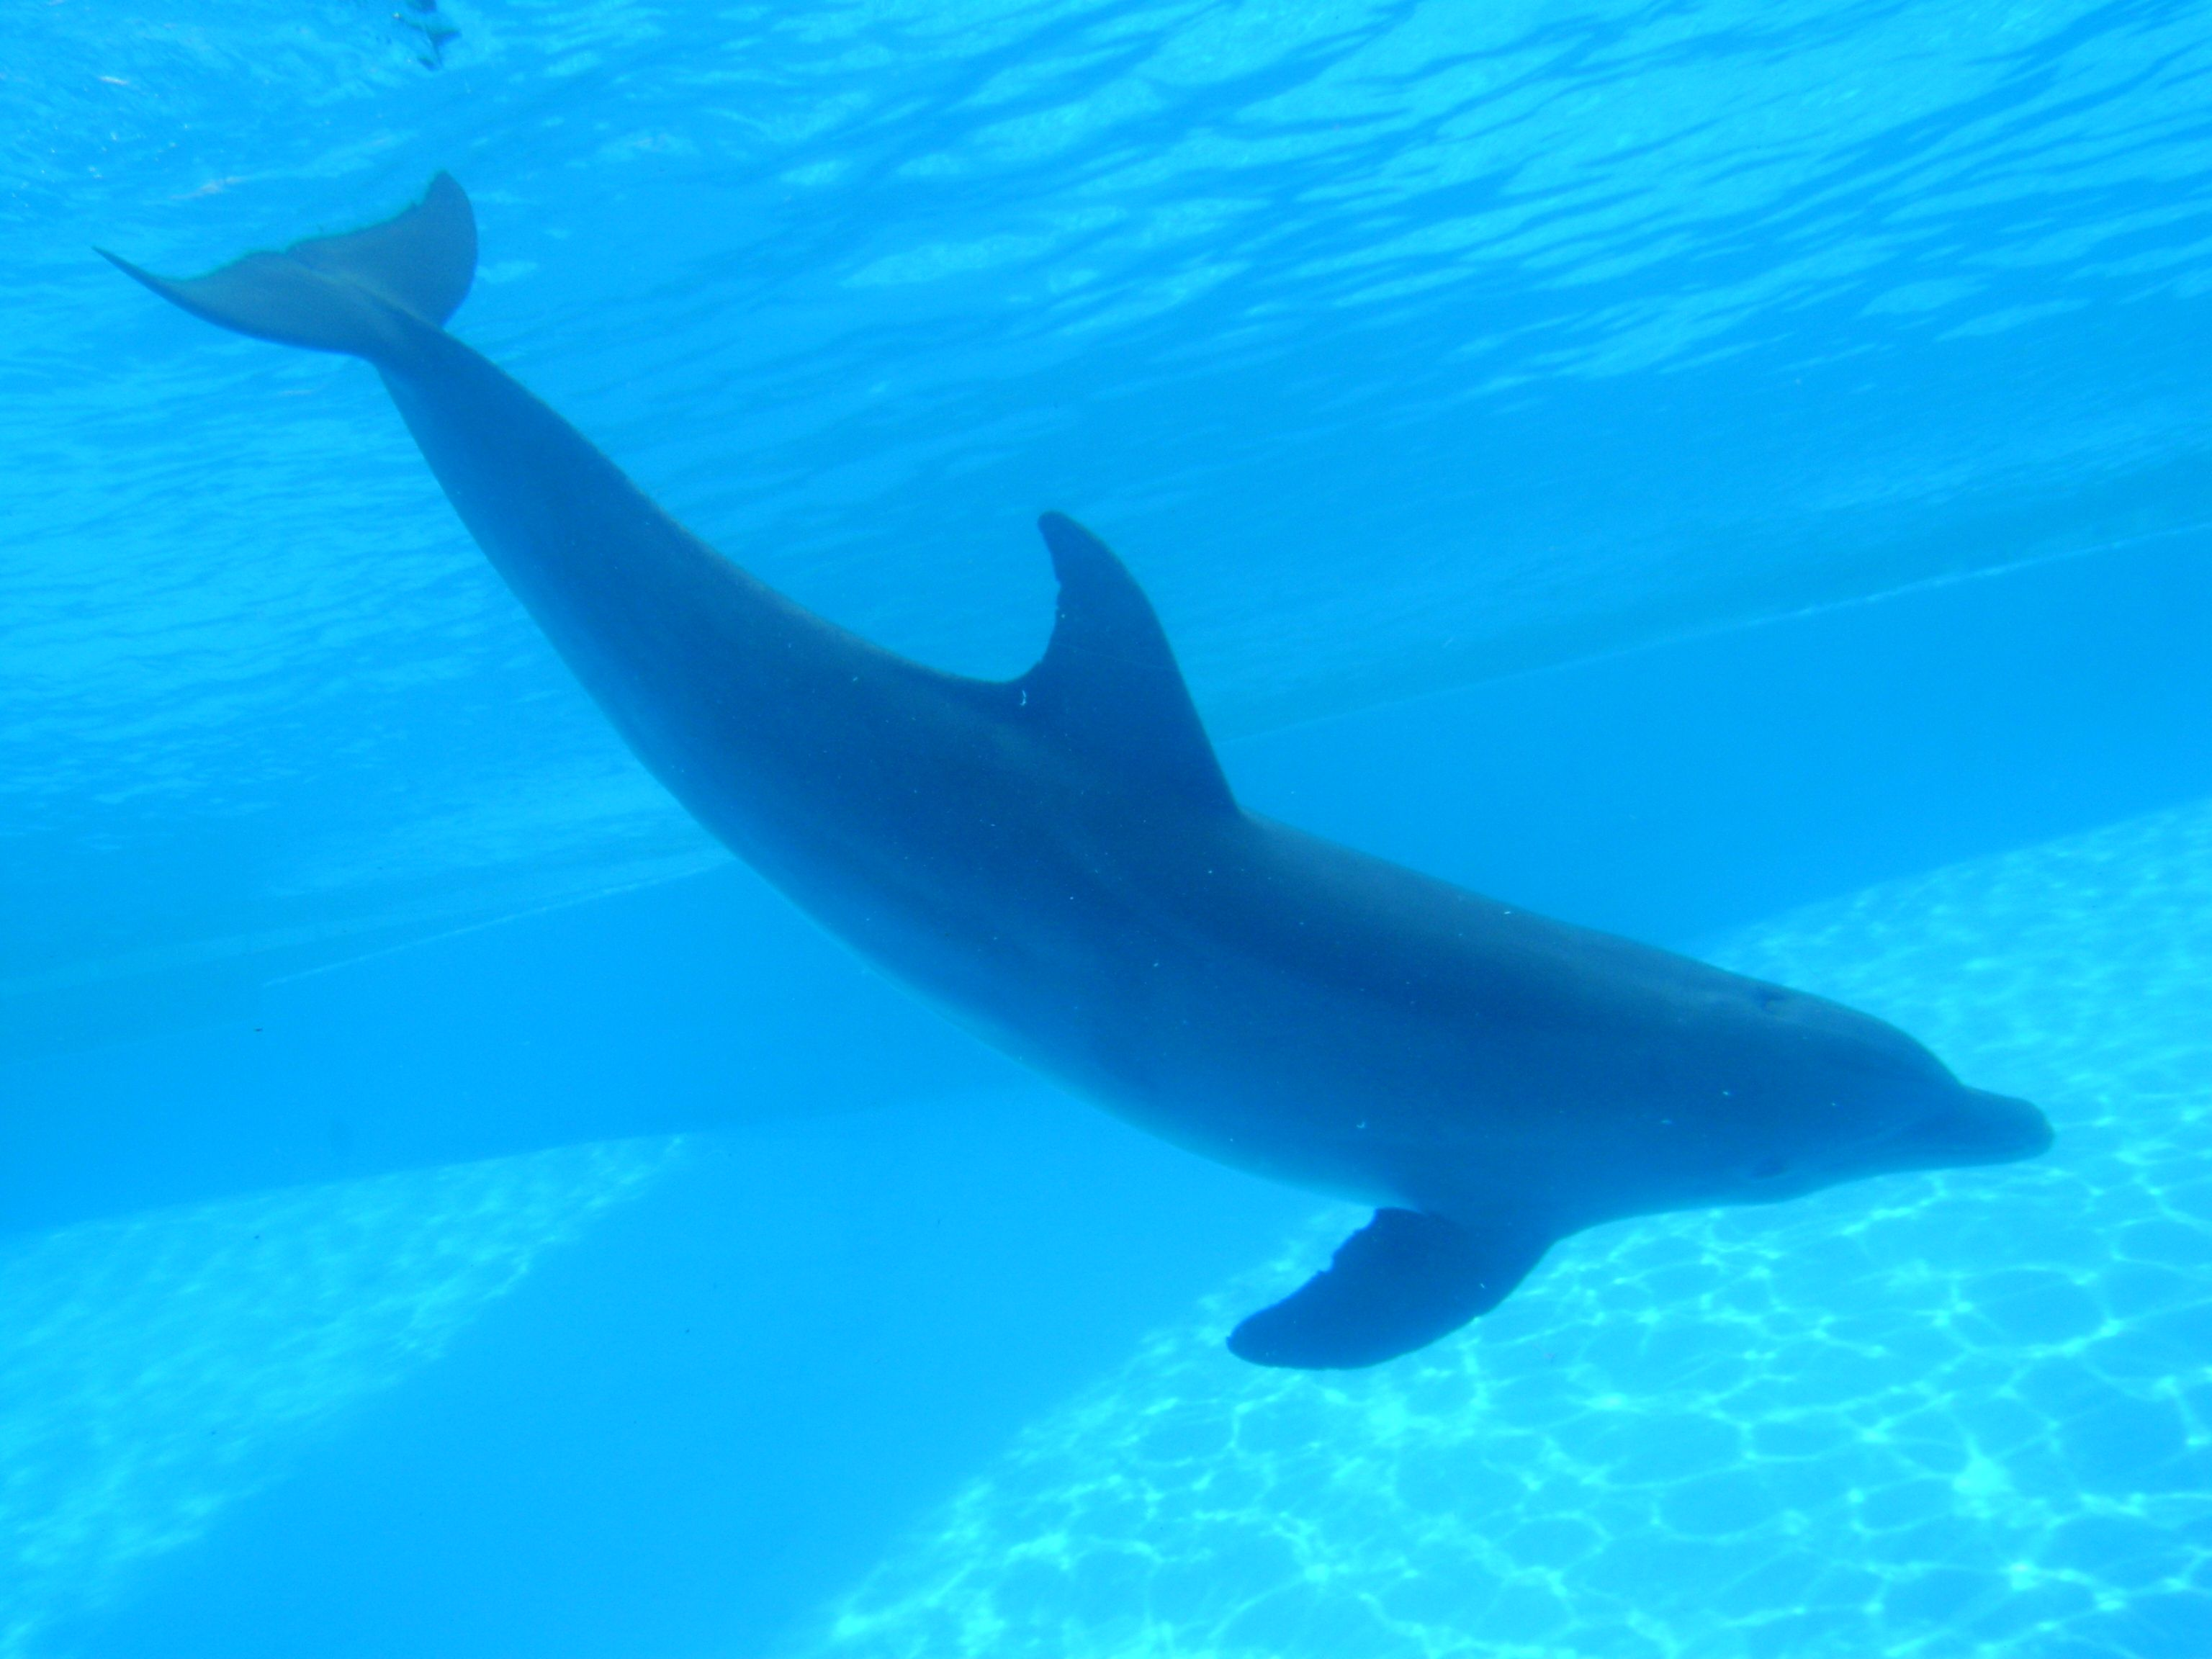dolphin: (80, 150, 2094, 1455)
